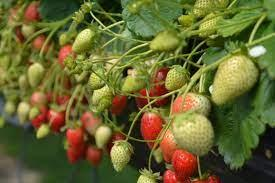straw-ripe: (141, 110, 162, 149), (173, 149, 198, 179)
straw-unripe: (212, 54, 259, 105), (173, 112, 214, 155), (150, 31, 182, 51), (73, 27, 98, 52), (111, 141, 131, 171), (122, 71, 147, 91), (166, 68, 188, 89), (28, 63, 44, 87), (95, 124, 111, 147), (18, 102, 30, 126), (36, 124, 50, 139)
